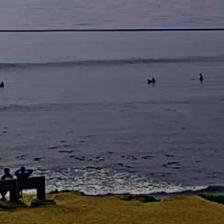surfer: (199, 73, 203, 82), (152, 77, 156, 83), (1, 82, 4, 90)
